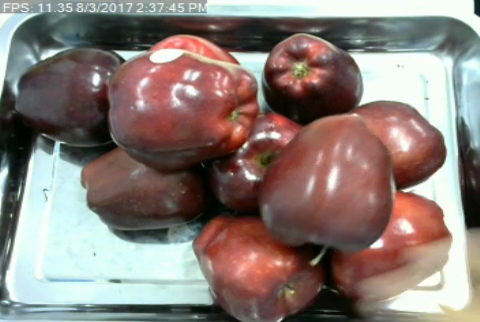Apple: (104, 45, 264, 170), (255, 111, 395, 251), (322, 186, 455, 304), (191, 211, 327, 322), (79, 142, 214, 233), (14, 46, 129, 150), (259, 29, 365, 126), (210, 110, 304, 218), (346, 98, 449, 185)
